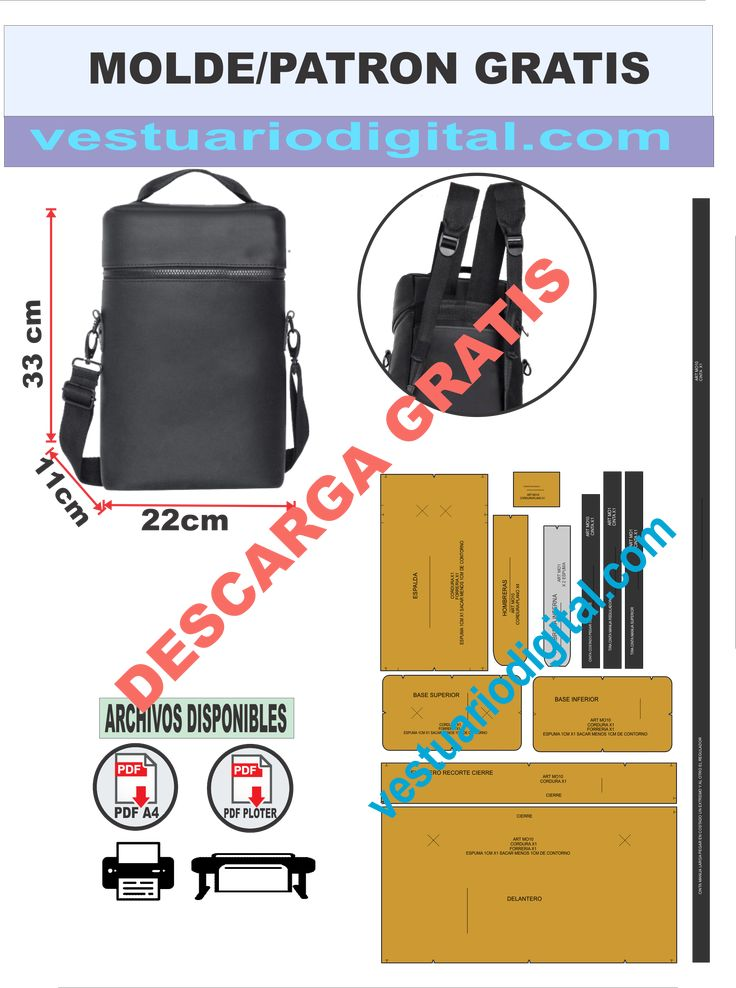cuero: (102, 168, 532, 491)
